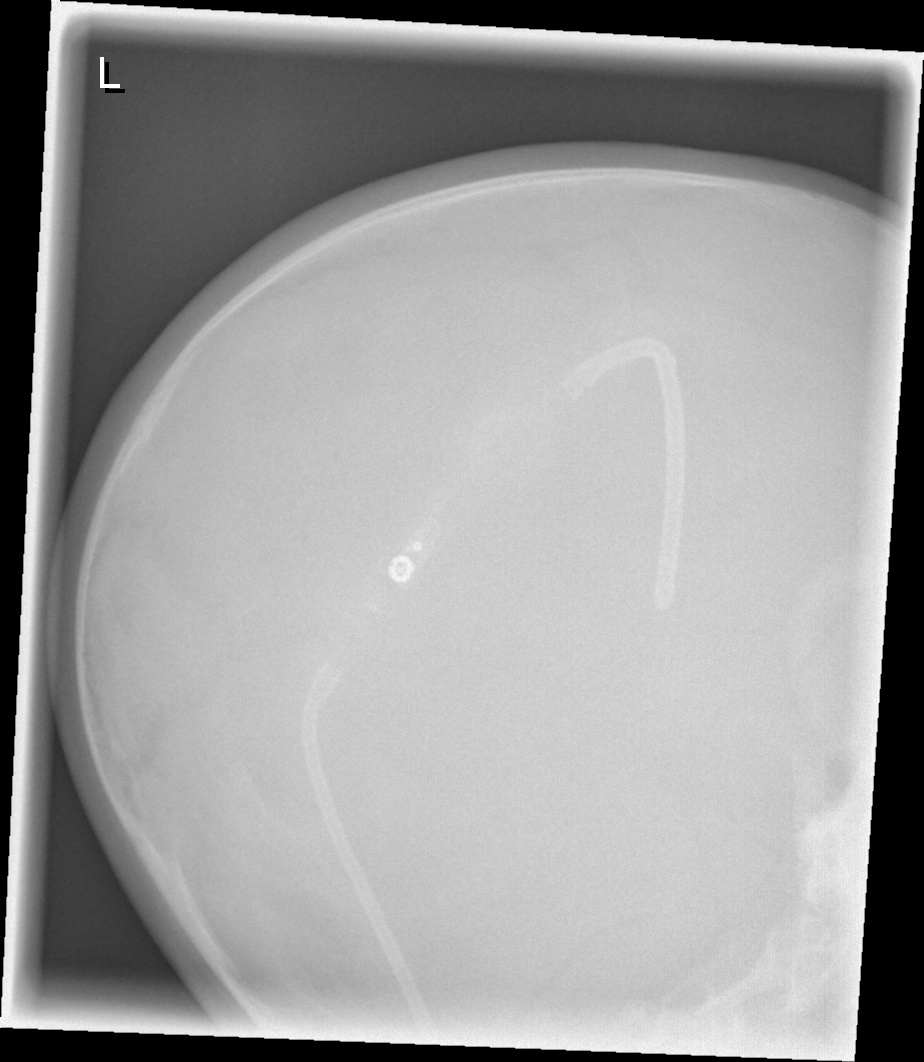Codman Hakim: (365, 533, 436, 587)
